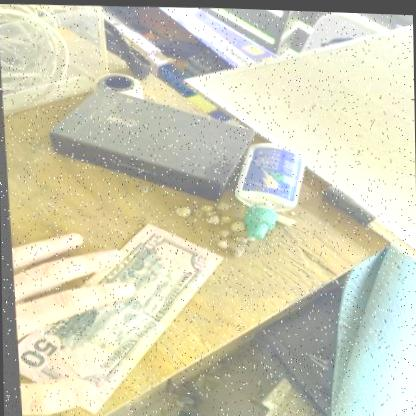fifty-back: (14, 222, 222, 412)
